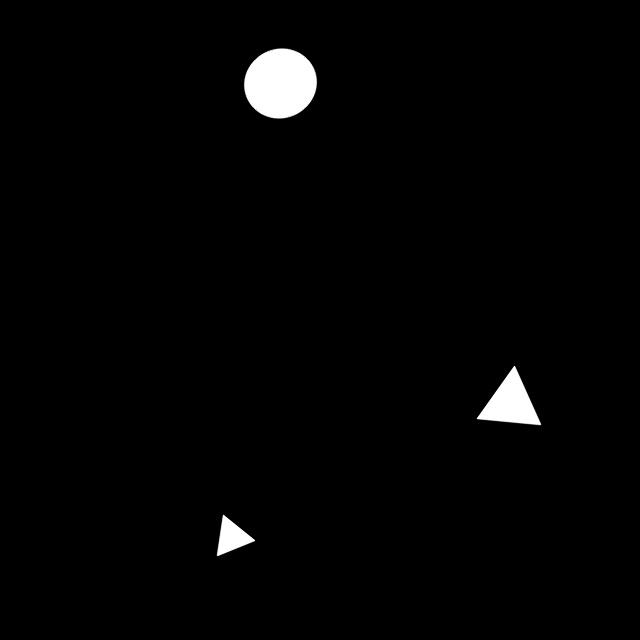Circle: (234, 42, 326, 135)
Triangle: (469, 345, 547, 446), (200, 506, 263, 573)
